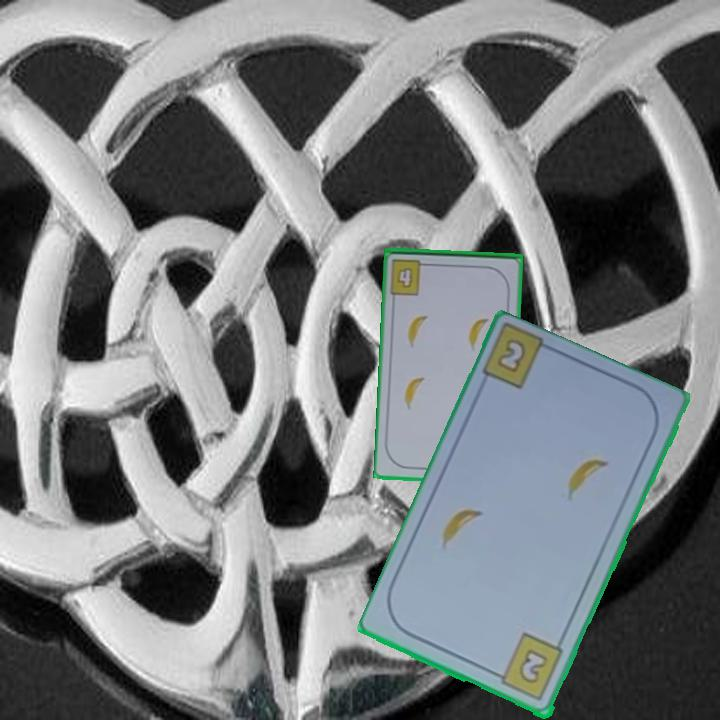2b: (490, 630, 566, 705), (497, 338, 526, 373)
4b: (387, 256, 432, 298)
